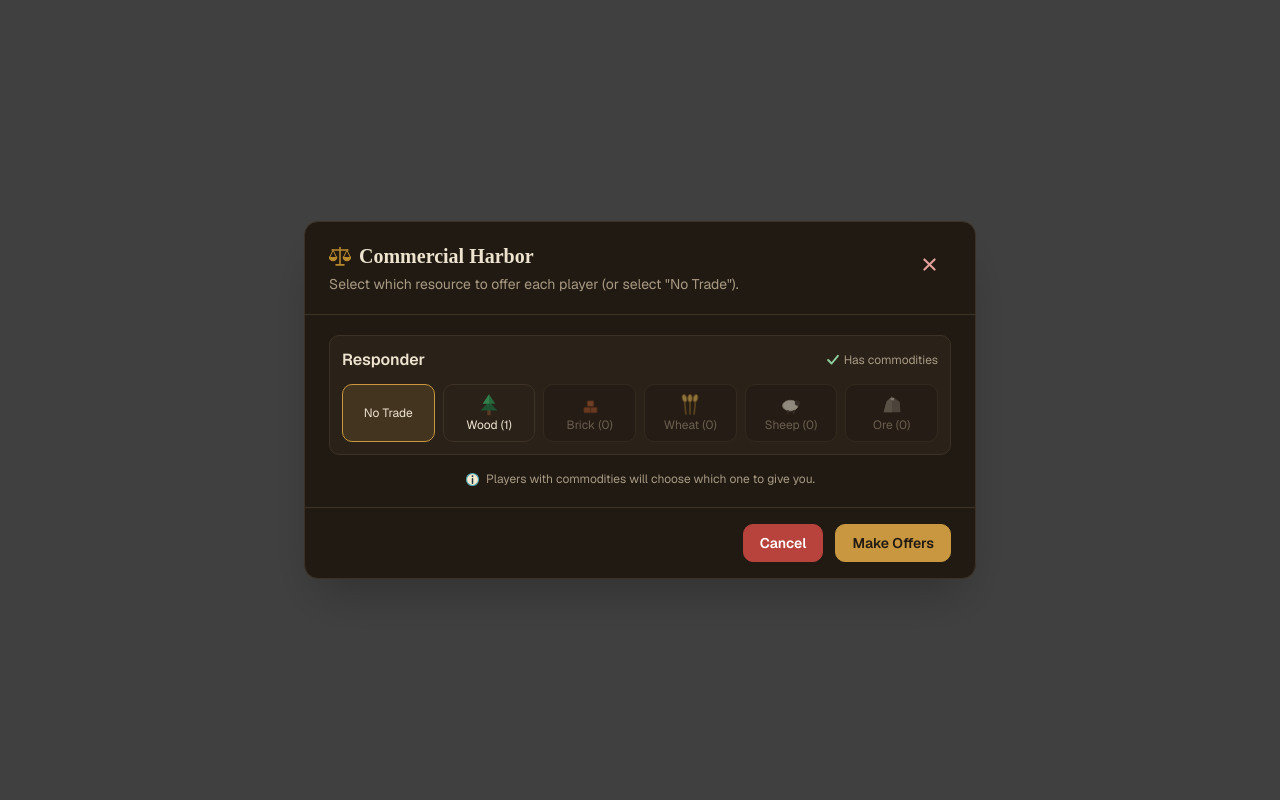
Test: Commercial Harbor dialog error handling › uses a safe fallback when cancellation rejects a non-Error
Click the button "Cancel" at [783, 543], box [743, 524, 823, 562]
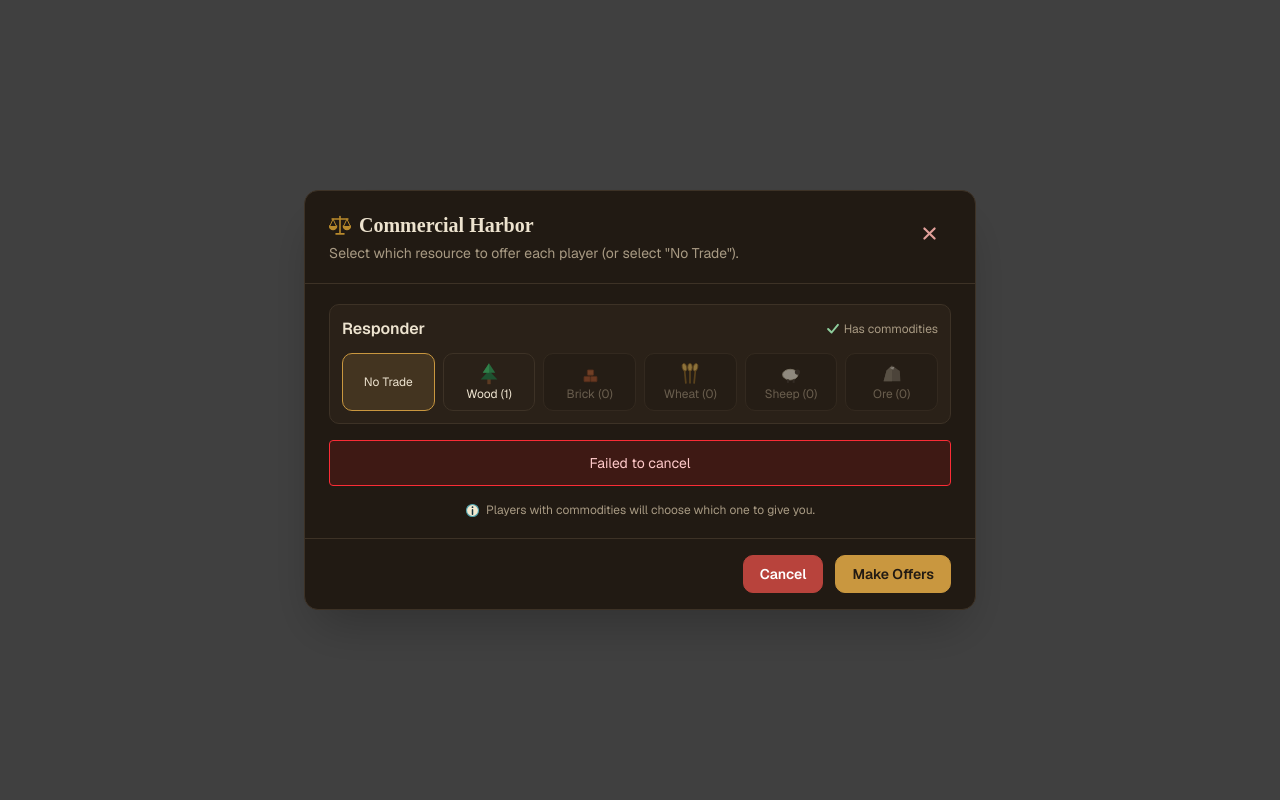
Now the message reads "Failed to cancel", box [589, 454, 691, 472]
